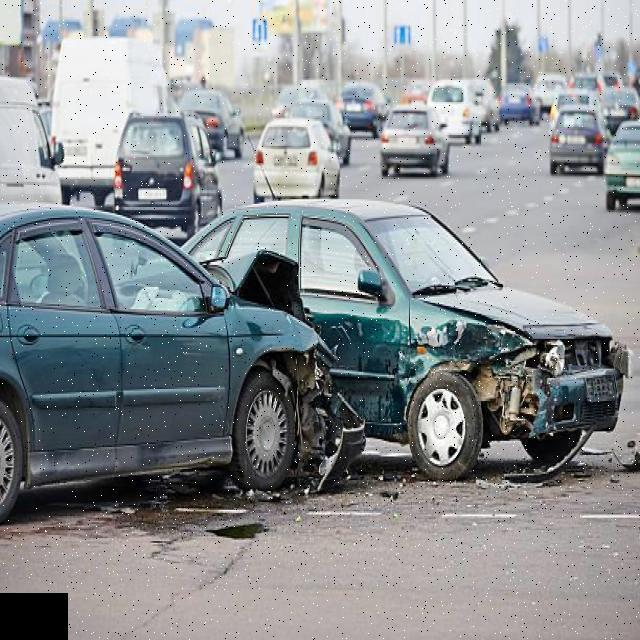moderate: (0, 176, 628, 510)
